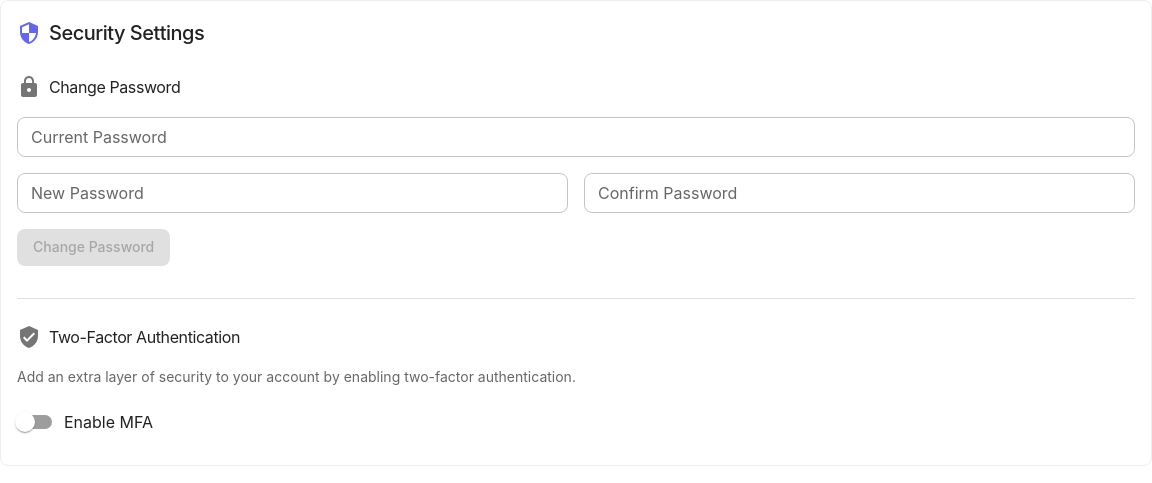
Scenario: SecuritySettings › password change › enables change password button when all fields are filled
This screenshot has width=1152, height=483.
Expected: the button "Change Password" is disabled, [17,229,170,266]
// Fill in the password fields
In the password field labelled "Current Password": (576, 137) [17,117,1135,157], type "OldPassword123"
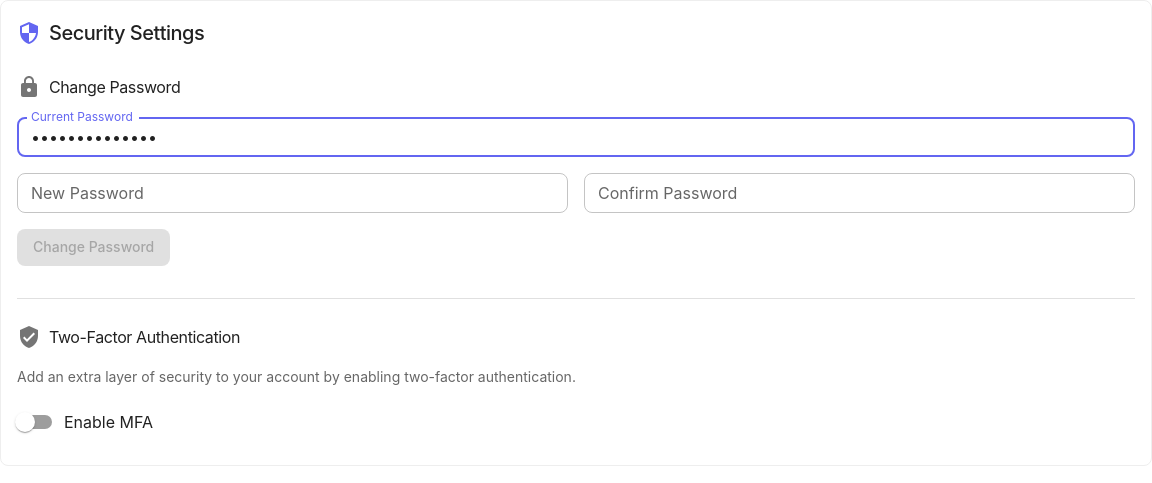
In the password field labelled "New Password": (292, 193) [17,173,568,213], type "NewPassword123"
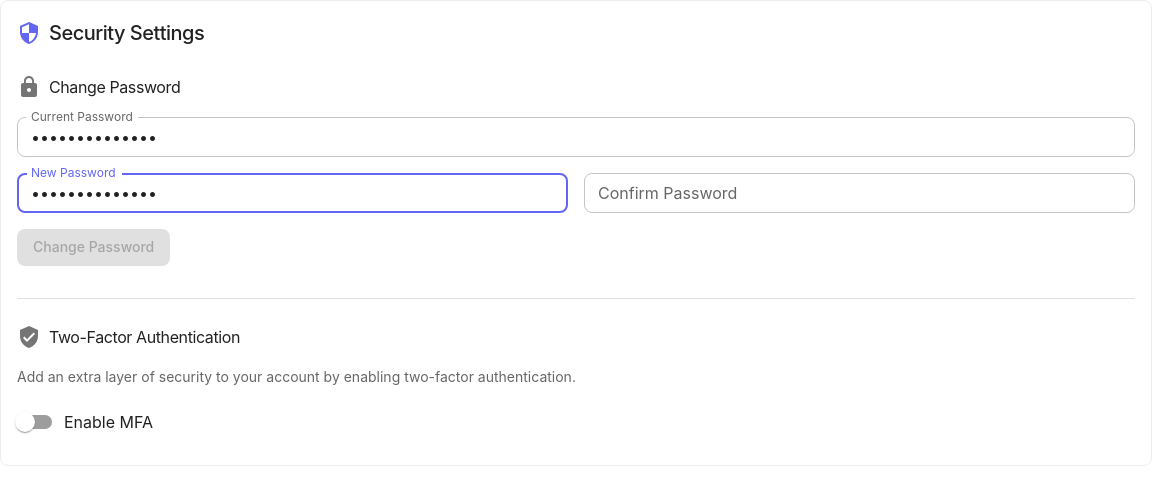
In the password field labelled "Confirm Password": (860, 193) [584,173,1135,213], type "NewPassword123"
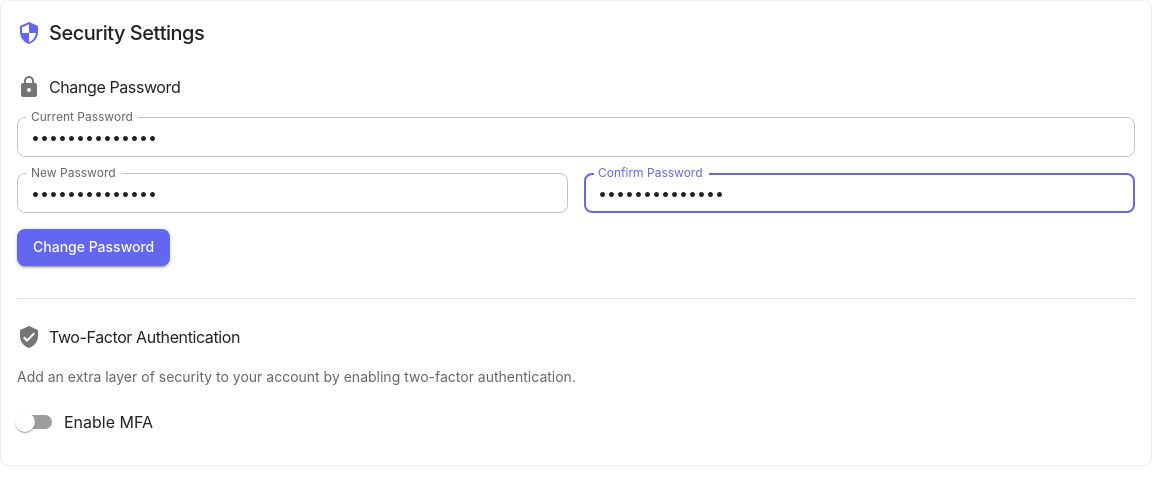
Result: the button "Change Password" is enabled at [17,229,170,266]
